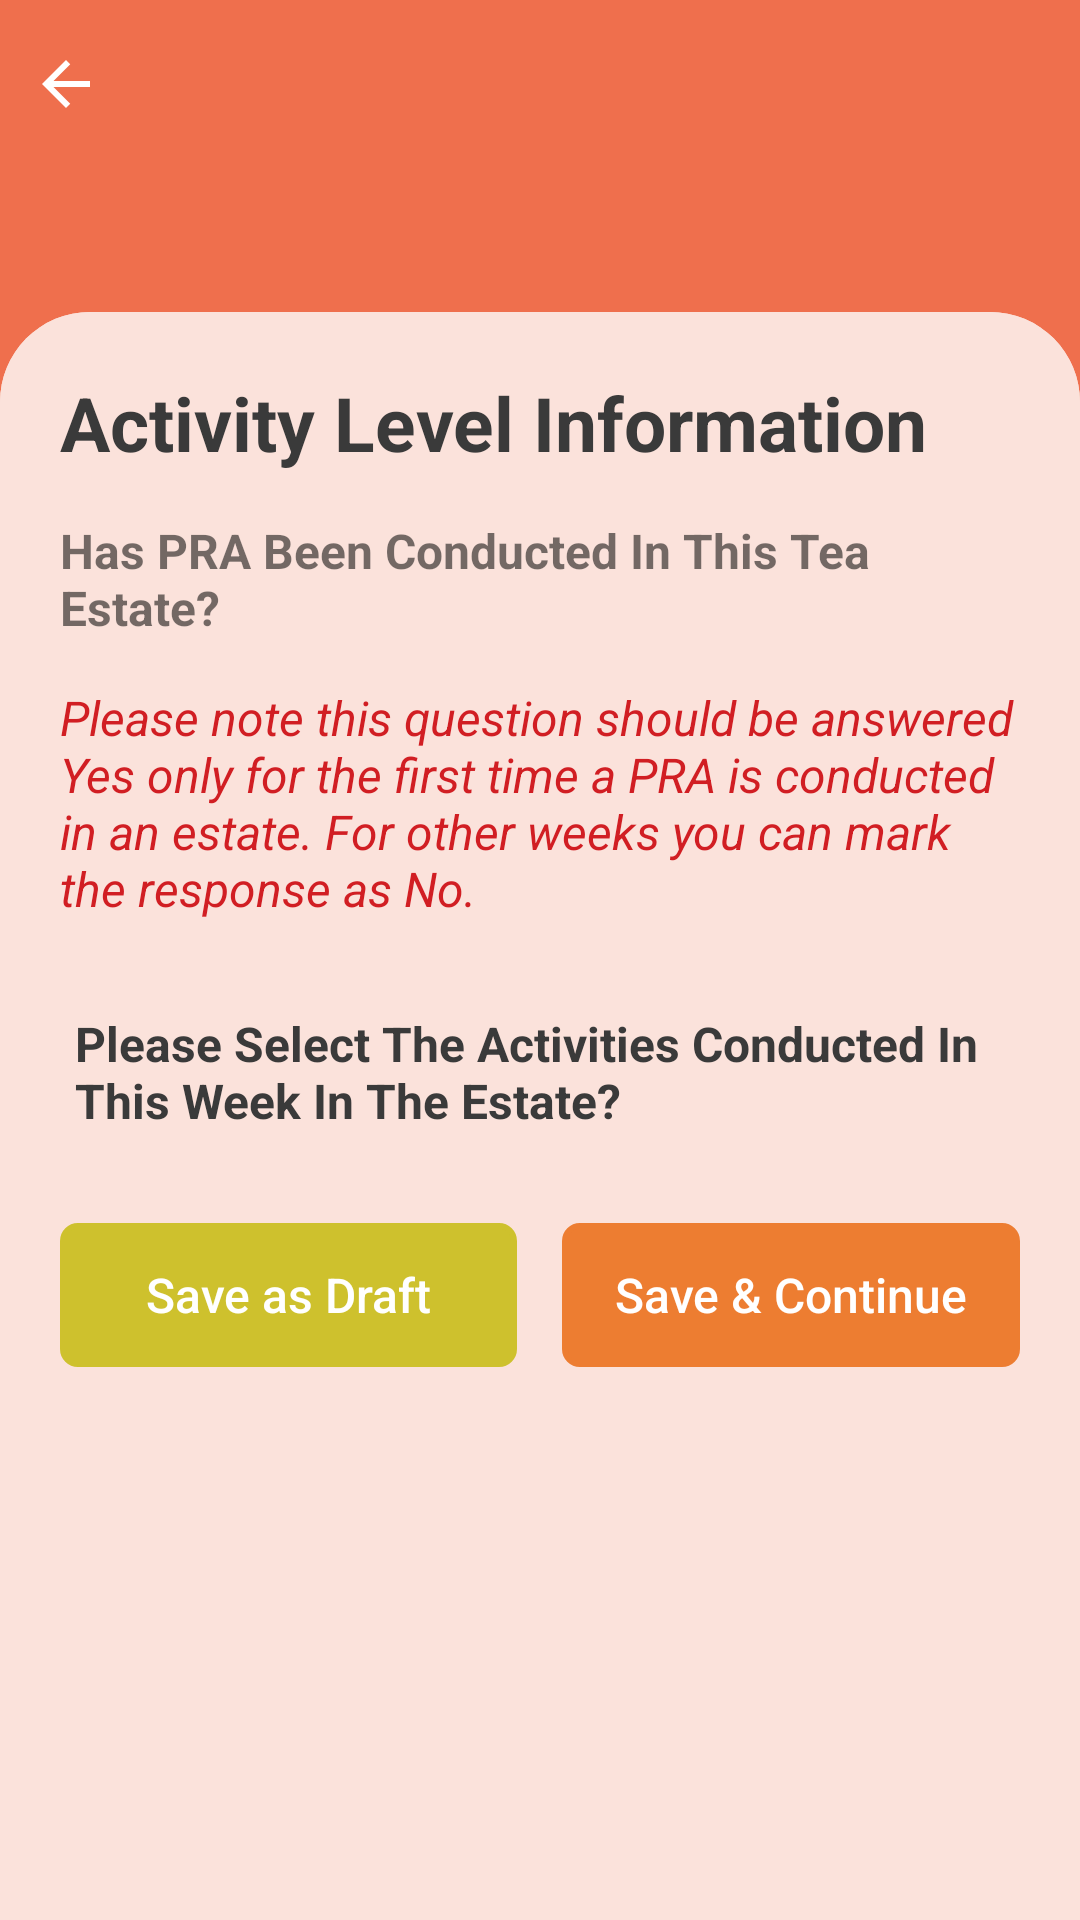

Screen size 1080*1920. Icon name, then its box in pixels as (x1, y1, x2, y2):
arrow back: (42, 60, 90, 108)
